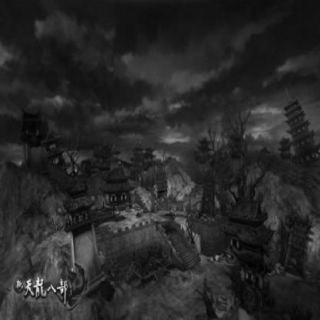other: (151, 104, 197, 166), (240, 102, 294, 150), (198, 100, 232, 152), (57, 143, 91, 176), (3, 140, 27, 170)
